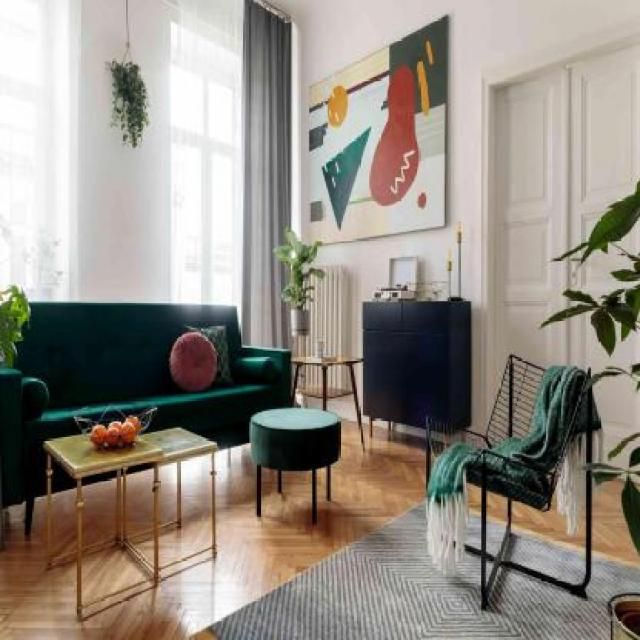Floor: (0, 418, 426, 639), (158, 454, 212, 568), (81, 539, 154, 604), (512, 491, 586, 553), (592, 479, 639, 569), (81, 478, 117, 548), (126, 469, 155, 536), (51, 488, 77, 558), (158, 462, 178, 526), (128, 530, 154, 566), (487, 491, 508, 526), (468, 483, 481, 516), (120, 476, 124, 538)
